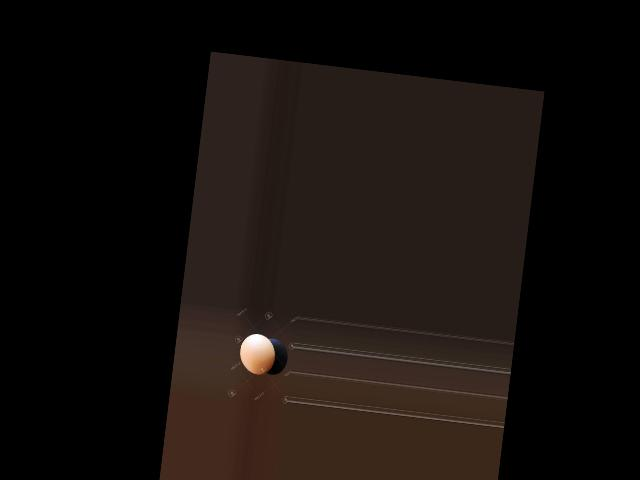egg: (237, 332, 278, 376)
